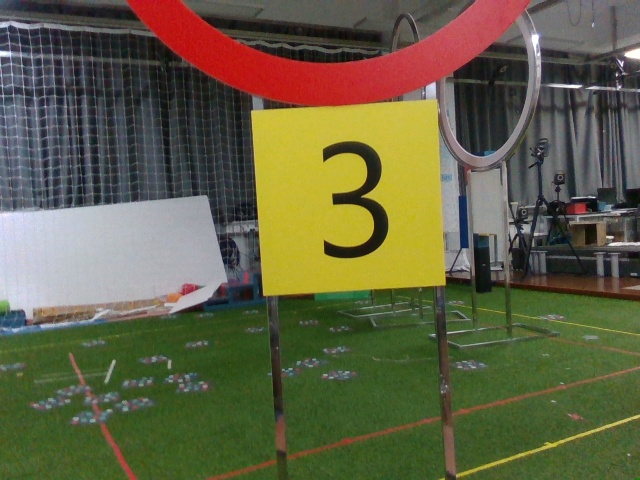target: (262, 110, 434, 287)
